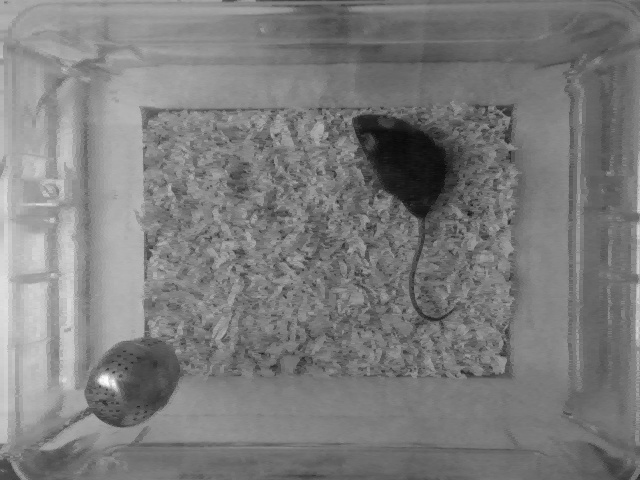mice: (341, 107, 466, 326)
